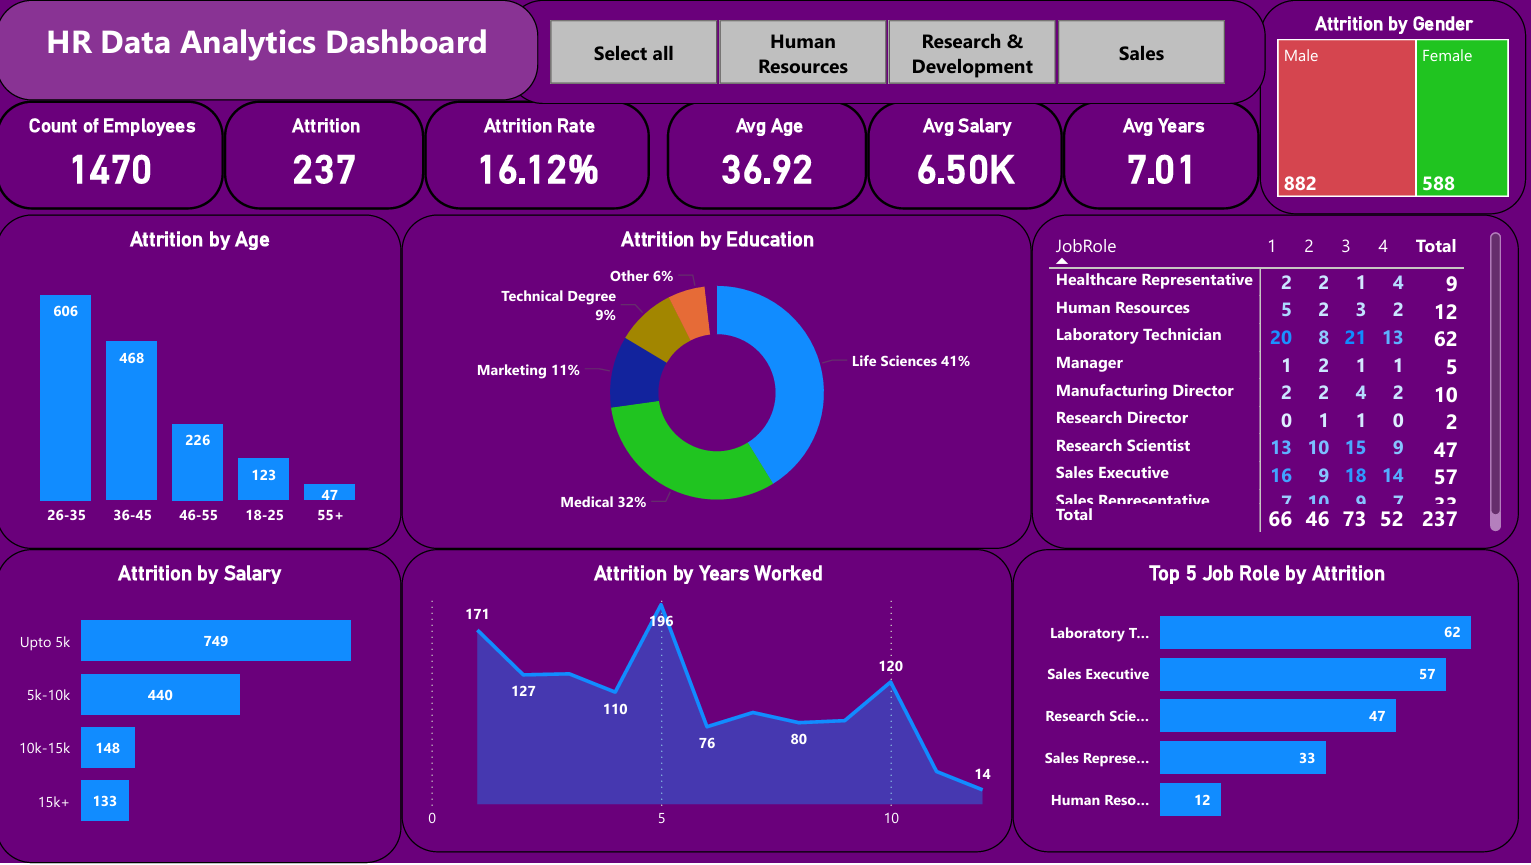

This screenshot's page, from the dashboard's own definition file:
{"tool":"powerbi","page":{"name":"Page 1","canvas":[1280,720],"ordinal":0},"visuals":[{"type":"card","title":"Count of Employees","fields":{"Values":["Count(HR_Analytics.EmpID)"]},"box":[0,83.7,190,90.8],"z":0},{"type":"card","title":"Attrition","fields":{"Values":["Sum(HR_Analytics.Attrition_Count)"]},"box":[190,83.7,166.8,90.8],"z":1000},{"type":"card","title":"Attrition Rate","fields":{"Values":["attrition_rate.attrition_rate"]},"box":[356.8,83.7,187.9,90.8],"z":2000},{"type":"card","title":"Avg Age","fields":{"Values":["Avg(attrition_rate.Age)"]},"box":[559.4,83.7,166.8,90.8],"z":3000},{"type":"card","title":"Avg Salary","fields":{"Values":["Avg(attrition_rate.MonthlyIncome)"]},"box":[726.2,83.7,162.6,90.8],"z":4000},{"type":"card","title":"Avg Years","fields":{"Values":["Avg(attrition_rate.YearsAtCompany)"]},"box":[888.8,83.7,164.7,90.8],"z":5000},{"type":"donutChart","title":"Attrition by Education","fields":{"Category":["attrition_rate.EducationField"],"Y":["CountNonNull(attrition_rate.Attrition)"]},"box":[337.8,179.4,525.7,278.7],"z":6000},{"type":"columnChart","title":"Attrition by Age","fields":{"Category":["attrition_rate.AgeGroup"],"Y":["CountNonNull(attrition_rate.Attrition)"]},"box":[0,179.4,337.8,278.7],"z":7000},{"type":"pivotTable","fields":{"Rows":["attrition_rate.JobRole"],"Columns":["attrition_rate.JobSatisfaction"],"Values":["Sum(attrition_rate.Attrition_Count)"]},"box":[863.4,179.4,405.3,278.7],"z":8000},{"type":"barChart","title":"Attrition by Salary","fields":{"Category":["attrition_rate.SalarySlab"],"Y":["CountNonNull(attrition_rate.Attrition)"]},"box":[0,458.1,337.8,261.8],"z":9000},{"type":"barChart","title":"Top 5 Job Role by  Attrition","fields":{"Y":["CountNonNull(attrition_rate.Attrition)"],"Category":["attrition_rate.JobRole"]},"box":[846.5,458.1,422.2,253.3],"z":10000},{"type":"areaChart","title":"Attrition by Years Worked","fields":{"Category":["attrition_rate.YearsAtCompany"],"Y":["CountNonNull(attrition_rate.Attrition)"]},"box":[337.8,458.1,508.8,253.3],"z":11000},{"type":"treemap","title":"Attrition by Gender","fields":{"Values":["CountNonNull(attrition_rate.Attrition)"],"Group":["attrition_rate.Gender"]},"box":[1053.4,0,221.7,179.4],"z":12000},{"type":"slicer","title":"Attrition by Age","fields":{"Values":["attrition_rate.Department"]},"box":[426.4,0,631.2,86.6],"z":13000},{"type":"textbox","box":[0,0,451.8,84.4],"z":14000}]}

Visuals, with their boxes in screenshot pixels (x1, y1, x2, y2), scaled from the page's 1280x720 canvas onto the 1531x865 screenshot:
"Count of Employees" card: {"x1": 0, "y1": 101, "x2": 227, "y2": 210}
"Attrition" card: {"x1": 227, "y1": 101, "x2": 427, "y2": 210}
"Attrition Rate" card: {"x1": 427, "y1": 101, "x2": 652, "y2": 210}
"Avg Age" card: {"x1": 669, "y1": 101, "x2": 869, "y2": 210}
"Avg Salary" card: {"x1": 869, "y1": 101, "x2": 1063, "y2": 210}
"Avg Years" card: {"x1": 1063, "y1": 101, "x2": 1260, "y2": 210}
"Attrition by Education" donutChart: {"x1": 404, "y1": 216, "x2": 1033, "y2": 550}
"Attrition by Age" columnChart: {"x1": 0, "y1": 216, "x2": 404, "y2": 550}
pivotTable - attrition_rate.JobRole x attrition_rate.JobSatisfaction: {"x1": 1033, "y1": 216, "x2": 1517, "y2": 550}
"Attrition by Salary" barChart: {"x1": 0, "y1": 550, "x2": 404, "y2": 864}
"Top 5 Job Role by  Attrition" barChart: {"x1": 1012, "y1": 550, "x2": 1517, "y2": 855}
"Attrition by Years Worked" areaChart: {"x1": 404, "y1": 550, "x2": 1013, "y2": 855}
"Attrition by Gender" treemap: {"x1": 1260, "y1": 0, "x2": 1525, "y2": 216}
"Attrition by Age" slicer: {"x1": 510, "y1": 0, "x2": 1265, "y2": 104}
textbox: {"x1": 0, "y1": 0, "x2": 540, "y2": 101}
